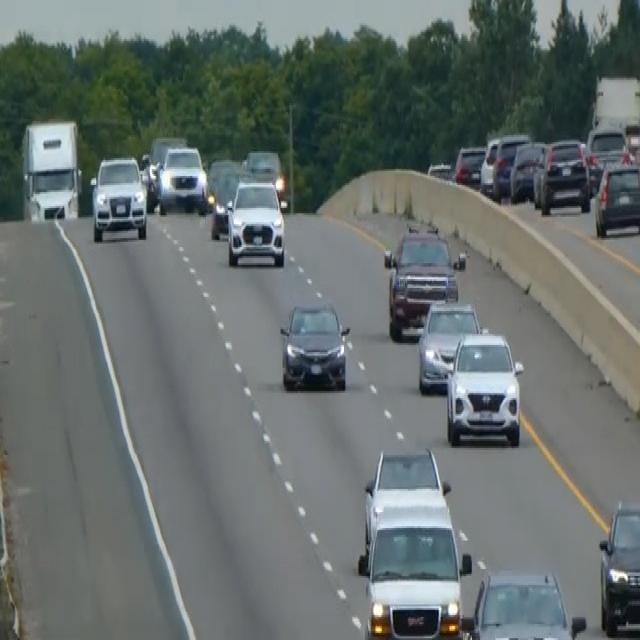car: (445, 329, 524, 446), (465, 566, 586, 638), (362, 444, 449, 542), (279, 299, 350, 391), (417, 297, 481, 393), (597, 500, 639, 638), (225, 176, 286, 267), (89, 153, 147, 242), (533, 137, 591, 215), (594, 158, 639, 238), (157, 144, 207, 215), (140, 134, 187, 206), (585, 123, 629, 190), (492, 132, 530, 199), (509, 138, 547, 202), (244, 148, 286, 205), (210, 171, 241, 238), (205, 154, 240, 210), (148, 134, 187, 172), (454, 142, 486, 187), (479, 135, 500, 194), (245, 148, 281, 180), (427, 158, 452, 180)
jeep: (383, 226, 461, 338)
lorry: (20, 116, 82, 222)
minivan: (360, 491, 471, 638)
